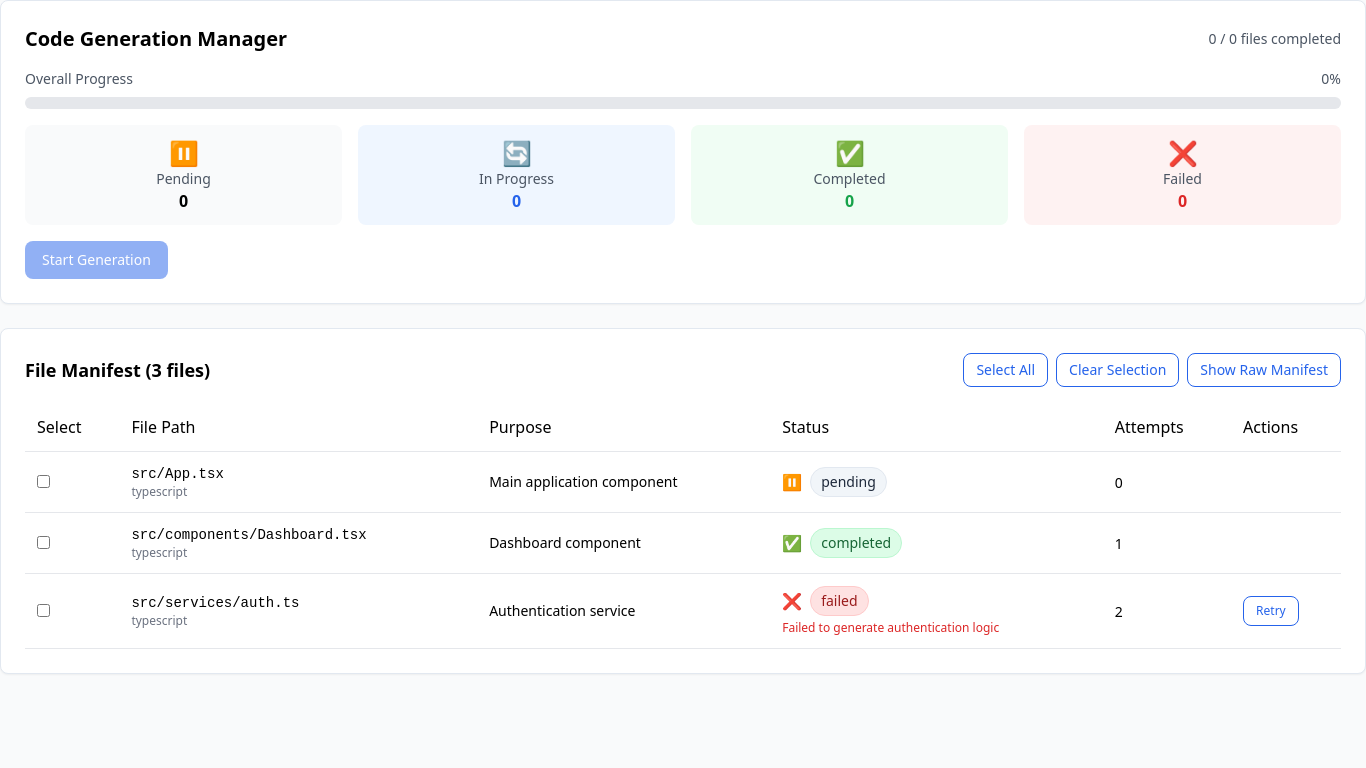
Test: CodeGenManager › handles file selection
This screenshot has width=1366, height=768.
Click the checkbox next to "src/App.tsx": (44, 482) x1=37 y1=475 x2=50 y2=488
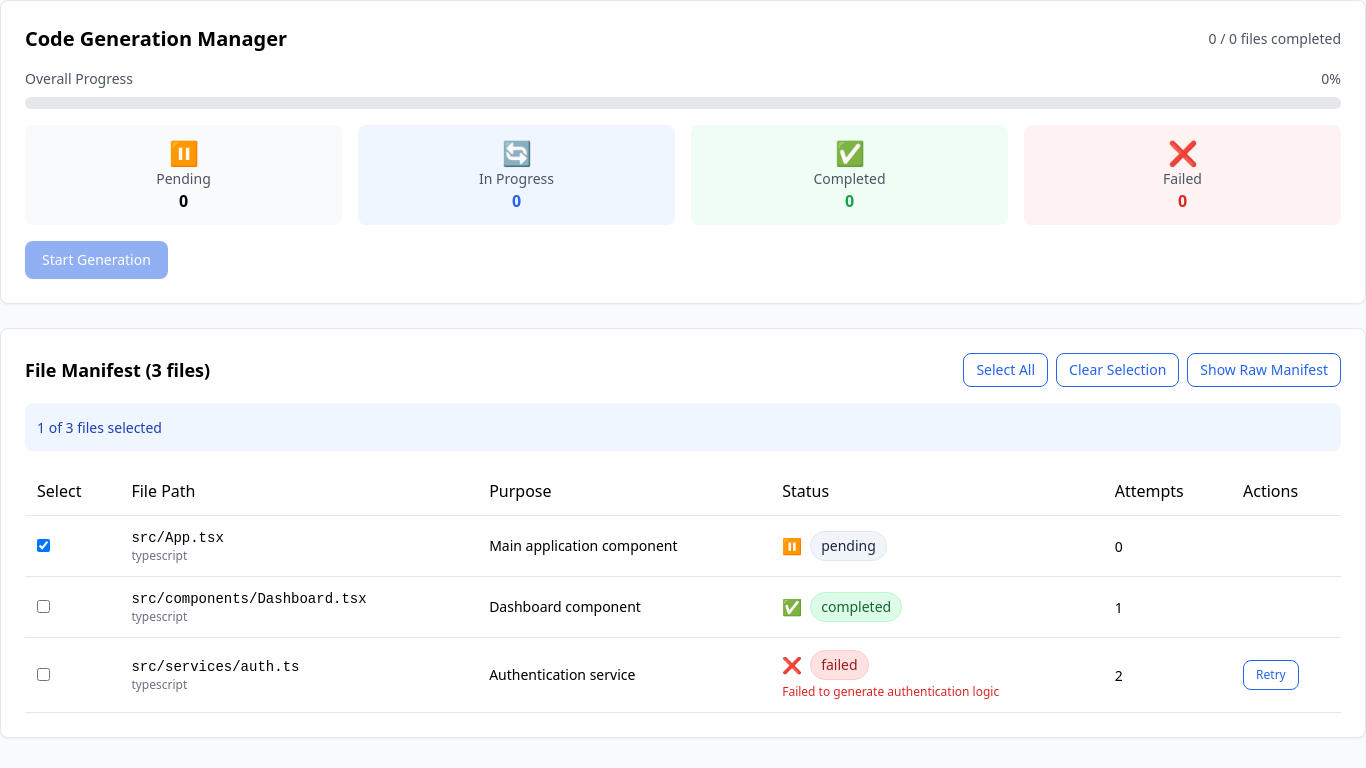
Expected: the text "1 of 3 files selected" is shown, x1=37 y1=418 x2=162 y2=437
